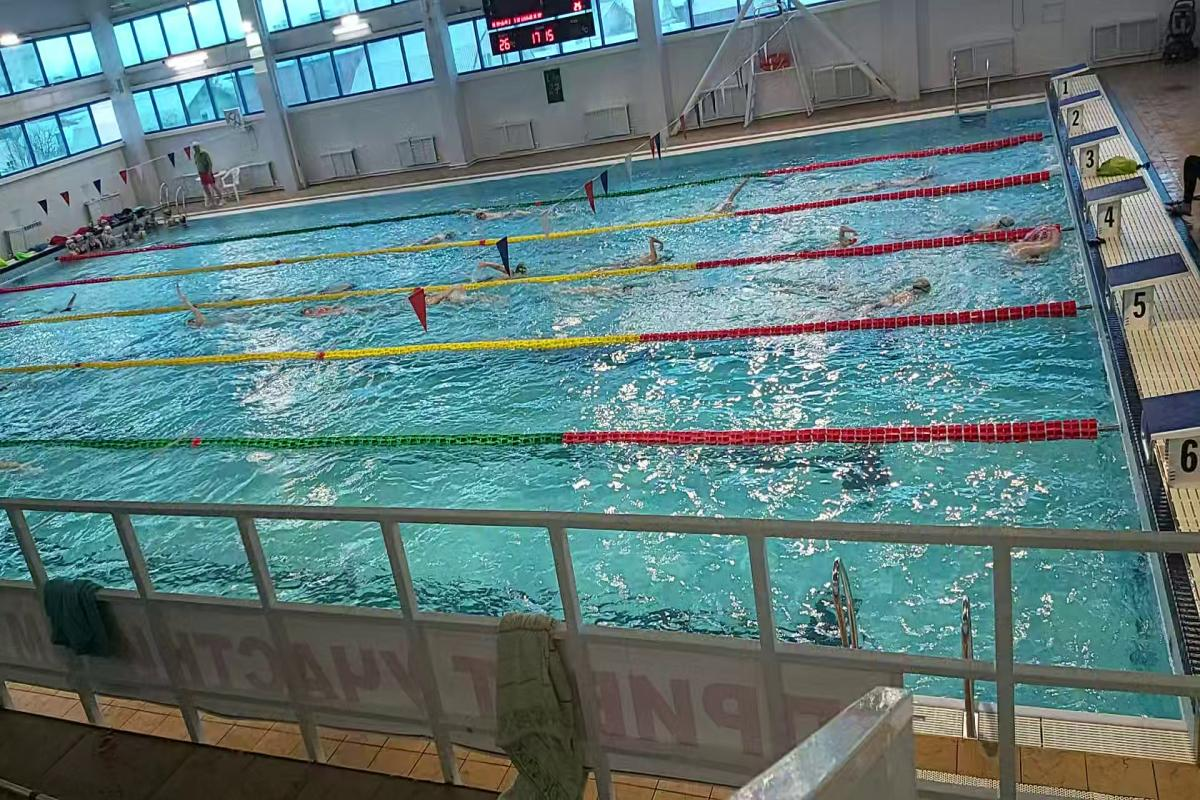swimmer: (995, 228, 1077, 273), (862, 271, 942, 313), (839, 170, 943, 191), (297, 297, 392, 319), (618, 239, 678, 267), (470, 202, 550, 223), (822, 216, 868, 251), (470, 254, 539, 276), (707, 184, 757, 214), (174, 310, 238, 330), (410, 230, 463, 246)
